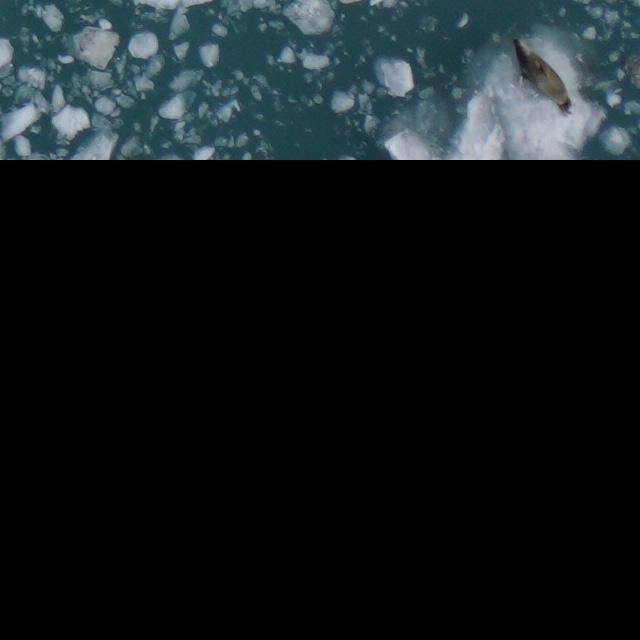seal: (495, 34, 585, 123)
